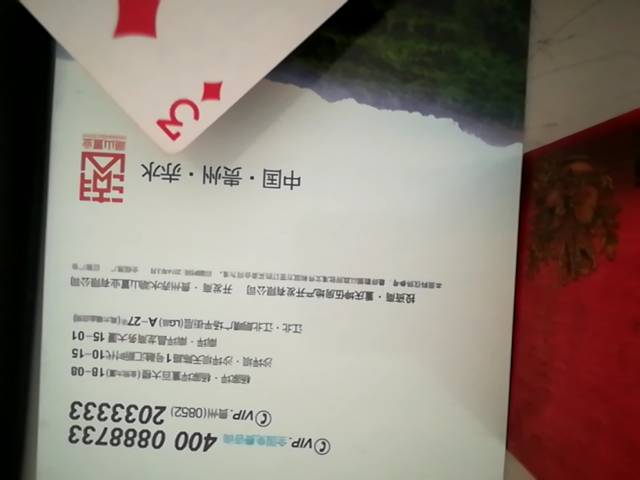fk 3: (12, 1, 466, 174)
